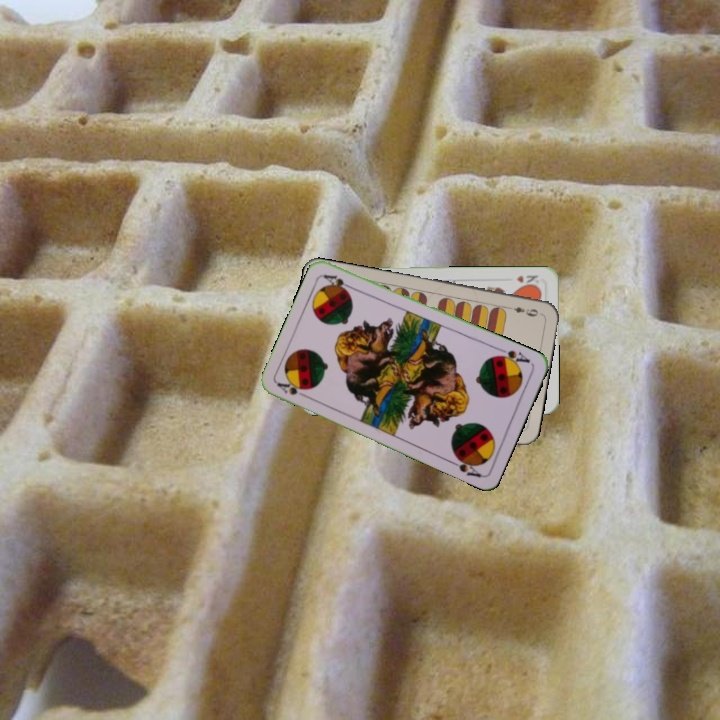E9: (503, 302, 544, 319)
HK: (512, 271, 541, 289)
SA: (492, 344, 533, 369), (273, 378, 312, 401)
